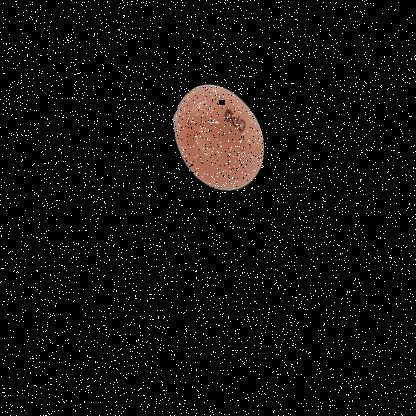opiqutan: (158, 66, 292, 223)
